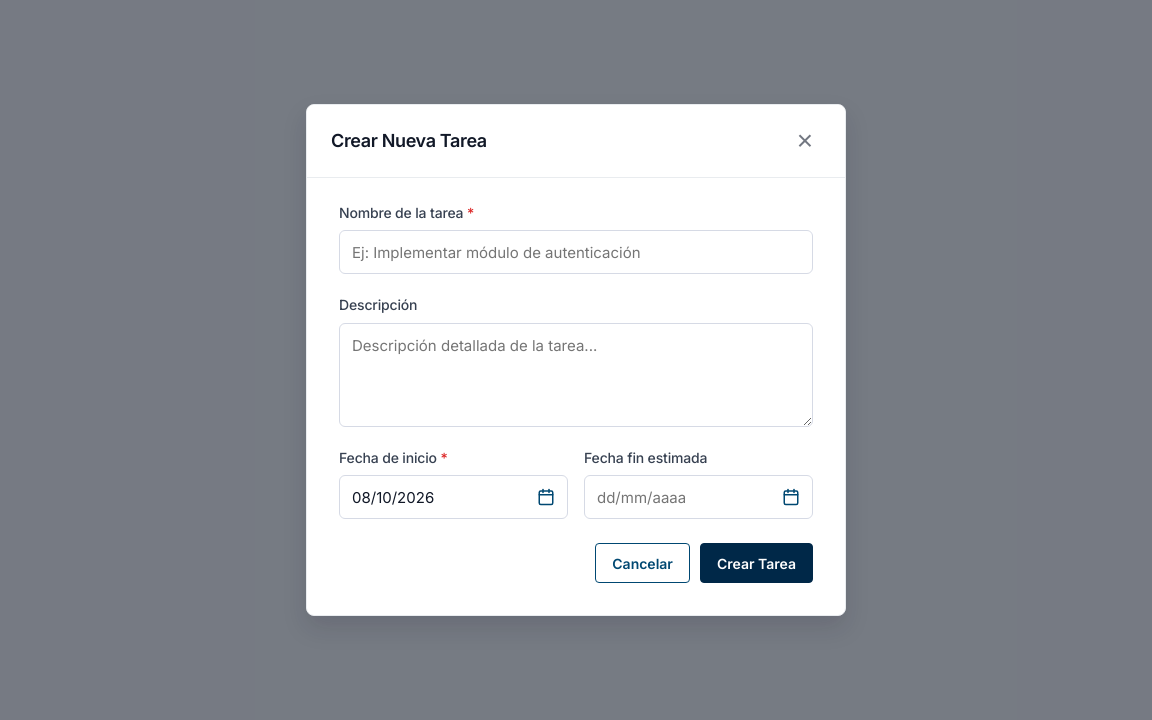
Test: TaskCreateModal › no envia una tarea sin nombre y muestra el motivo
Click the button "Crear Tarea": [756, 563] box [700,543,813,583]
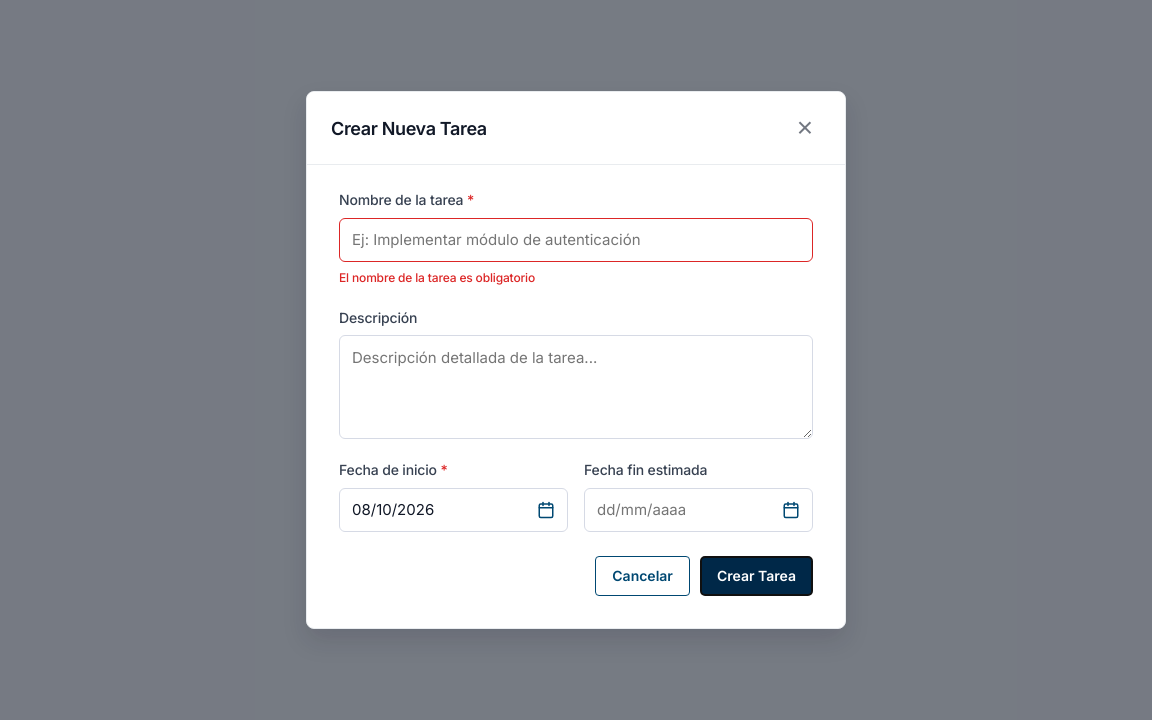
Check: the text "El nombre de la tarea es obligatorio" is shown, box [339,270,535,285]
